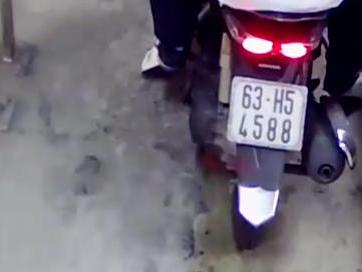num_plate: (227, 75, 306, 152)
